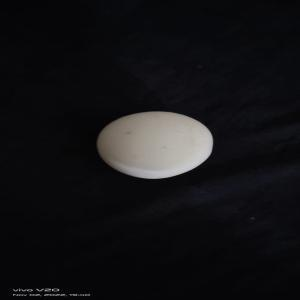Egg: (96, 110, 213, 180)
